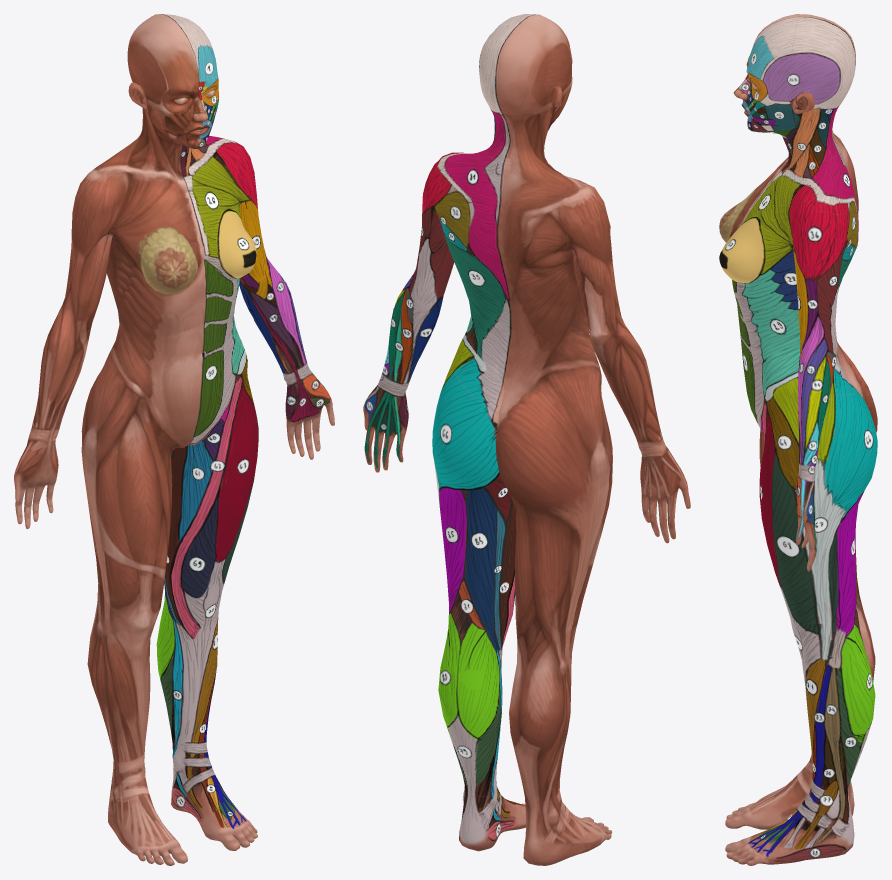
Rendered from anatomia.glb.
3 views of the same model, side by side, from view 1: azimuth 30°, elevation 25°; view 2: azimuth 150°, elevation 25°; view 3: azimuth 270°, elevation 25° (orthographic). The views are drawn at different scales.
Parts seen in each view (by area): view 1: body_scalony.003; view 2: body_scalony.003; view 3: body_scalony.003.
Part boxes in pixels (bbox=[...]): body_scalony.003: bbox=[14, 14, 334, 865]; body_scalony.003: bbox=[363, 14, 690, 865]; body_scalony.003: bbox=[719, 14, 877, 865].
Bounding box in the file's own units: 3.68 × 8.95 × 1.56.
Materials: 1 (1 with a texture image).
